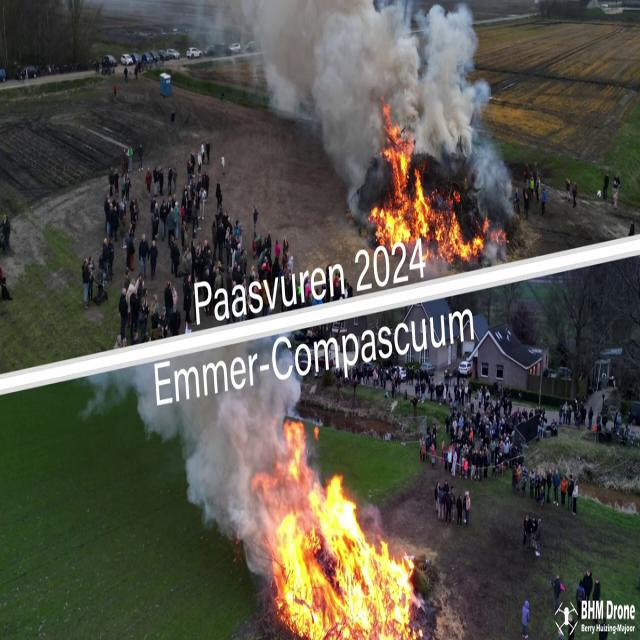fire: (249, 419, 420, 638), (368, 128, 488, 266)
smoke: (198, 1, 512, 194)
